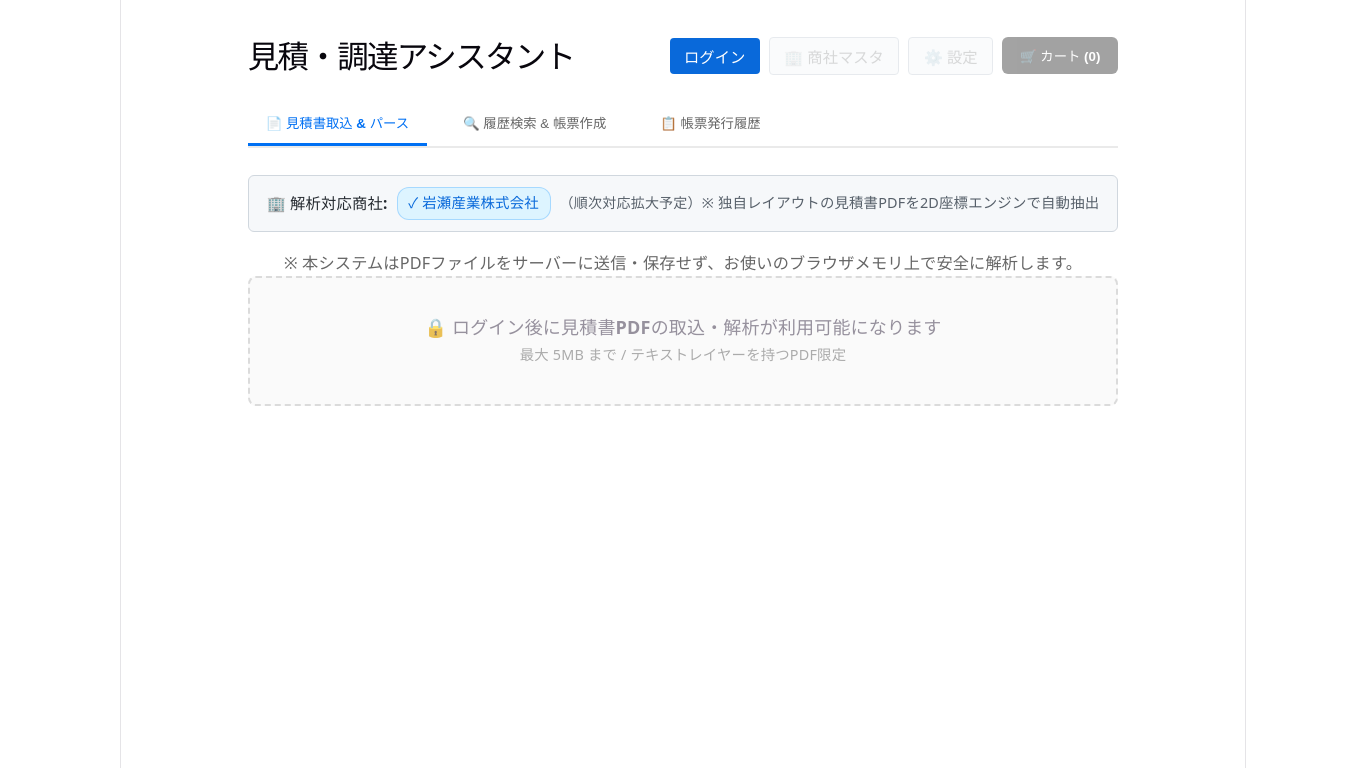
Test: Phase 9 カバレッジ補完テスト: App.tsx & ガードレール検証 › タブ切り替え（履歴検索 ⇔ 取込）が正常に動作すること (REQ-007)
Click the button "🔍 履歴検索 & 帳票作成".
click(535, 124)  # box [445,102,624,146]
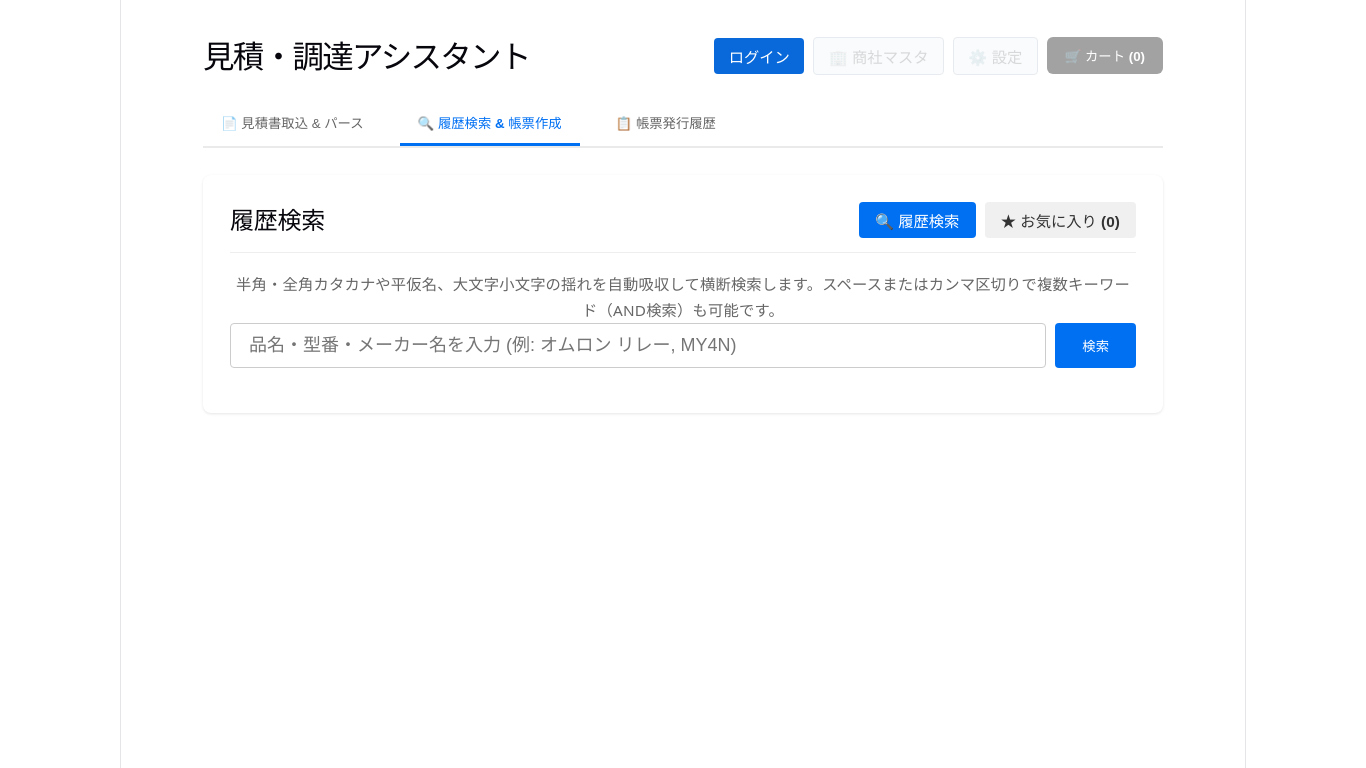
Check: the text "半角・全角カタカナや平仮名" is shown, box [236,274,1130,320]
Click the button "📄 見積書取込 & パース".
click(292, 124)  # box [203,102,382,146]
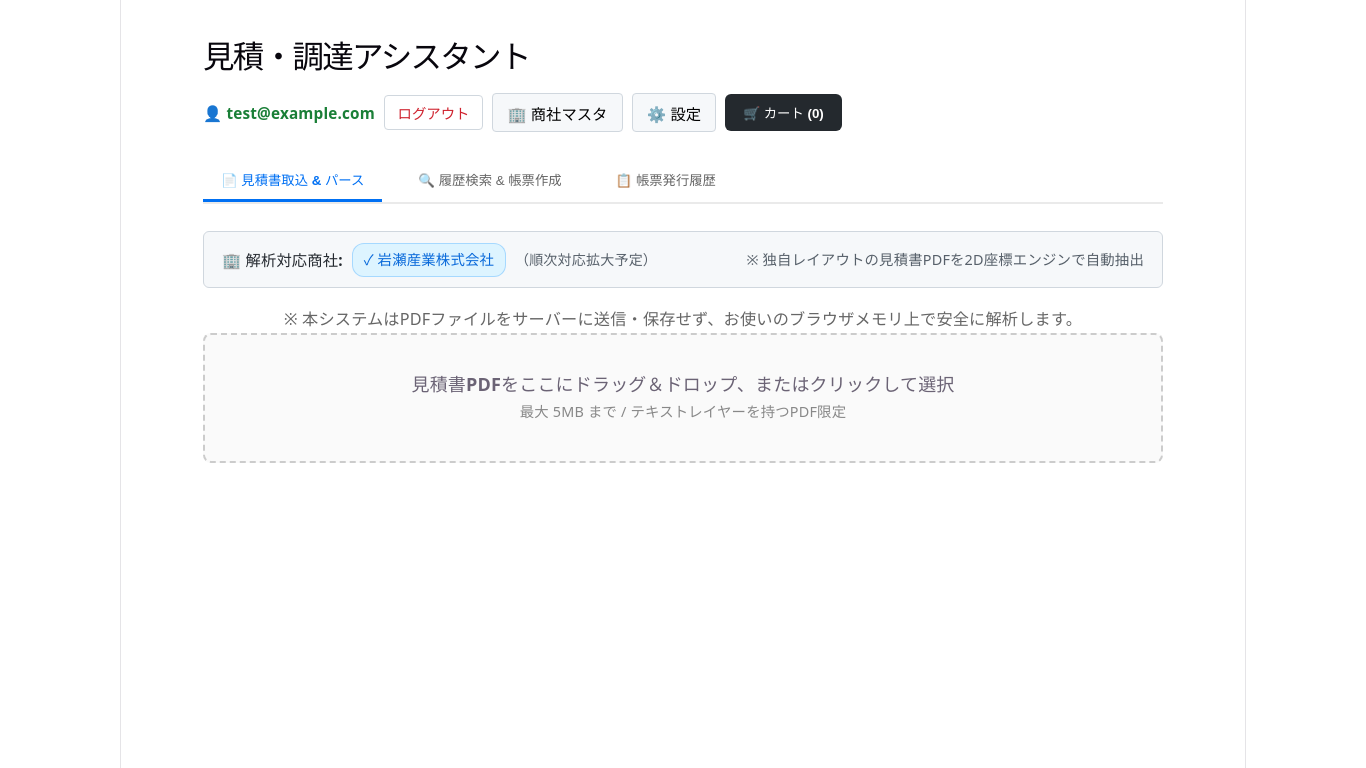
Check: the text "※ 本システムはPDFファイルをサーバーに送信・保存せず、お使いのブラウザメモリ上で安全に解析します。" is shown, box [284,308,1082,330]
